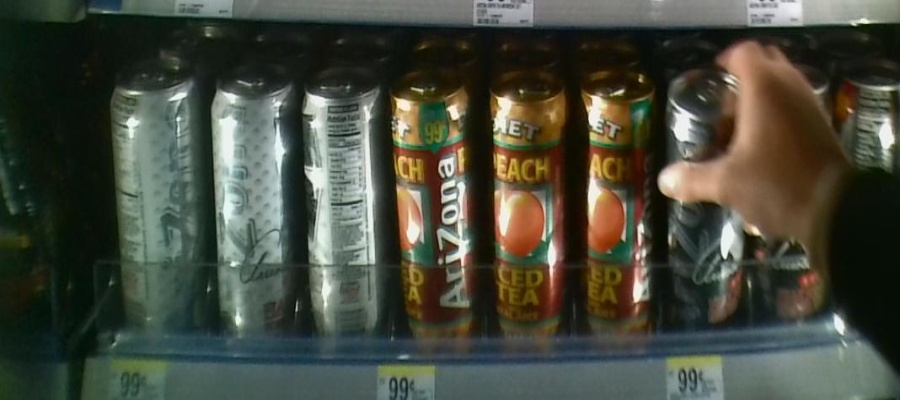bottle: (292, 63, 383, 369), (385, 68, 479, 360), (108, 70, 205, 348), (483, 61, 570, 367), (572, 59, 658, 365), (208, 70, 292, 366)
